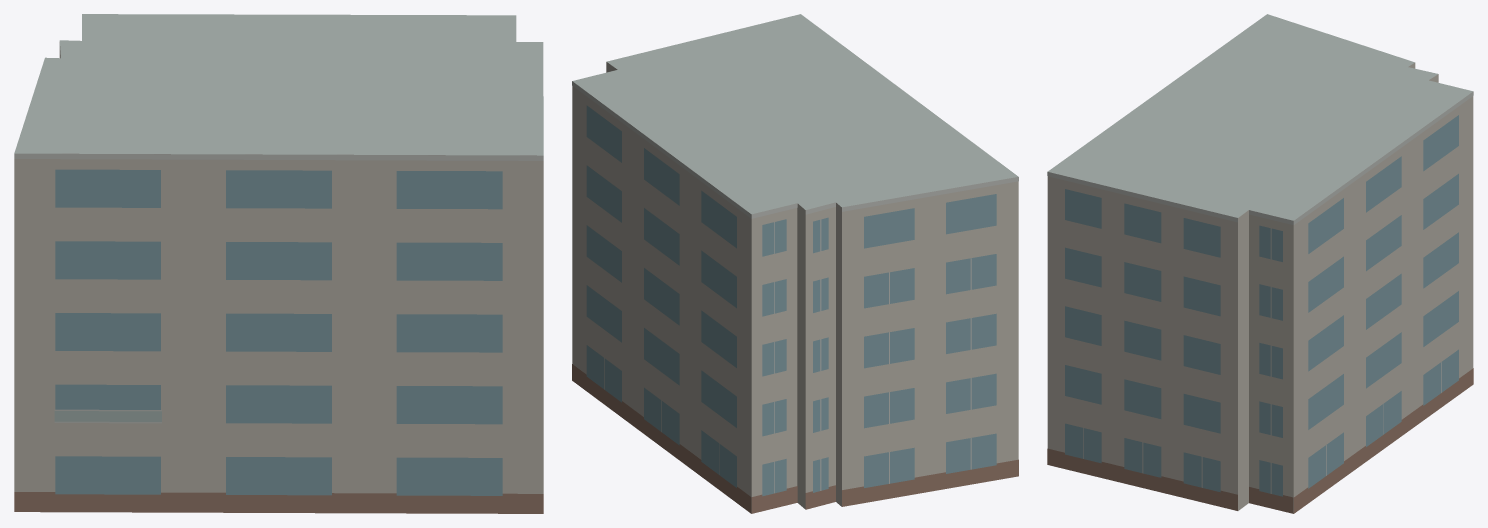
The model's file is survey-upis-32991368.glb.
3 renders of one model, left to right at view 1: azimuth 30°, elevation 25°; view 2: azimuth 150°, elevation 25°; view 3: azimuth 270°, elevation 25°, orthographic. The views are drawn at different scales.
Visible parts, largest first — view 1: survey-upis-32991368.tmp; view 2: survey-upis-32991368.tmp; view 3: survey-upis-32991368.tmp.
Boxes of the visible parts, box(x1,y1,x2,y2) form: survey-upis-32991368.tmp: box(14, 14, 543, 513); survey-upis-32991368.tmp: box(572, 14, 1018, 513); survey-upis-32991368.tmp: box(1047, 14, 1473, 513).
Size of the model in its own units: 24.38 by 16.11 by 21.23.
